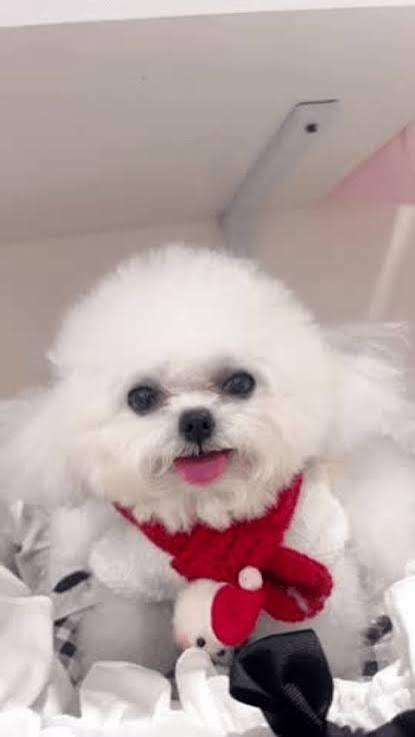adult_dog: (6, 242, 414, 687)
